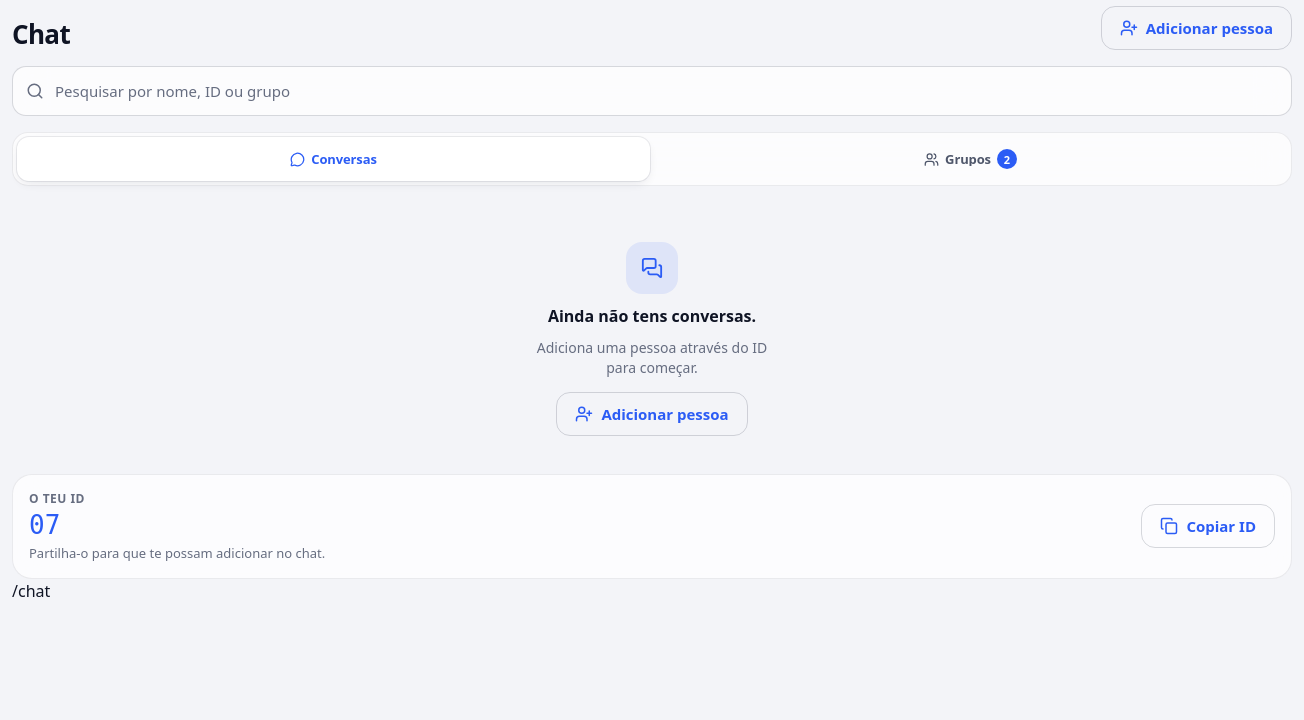
Scenario: ChatPage › syncs the tab with ?tab= and shows groups with participants and their action
The image size is (1304, 720).
Click the tab named "Grupos, 2 mensagens não lidas" at point(970, 159), box [654,137,1287,181]
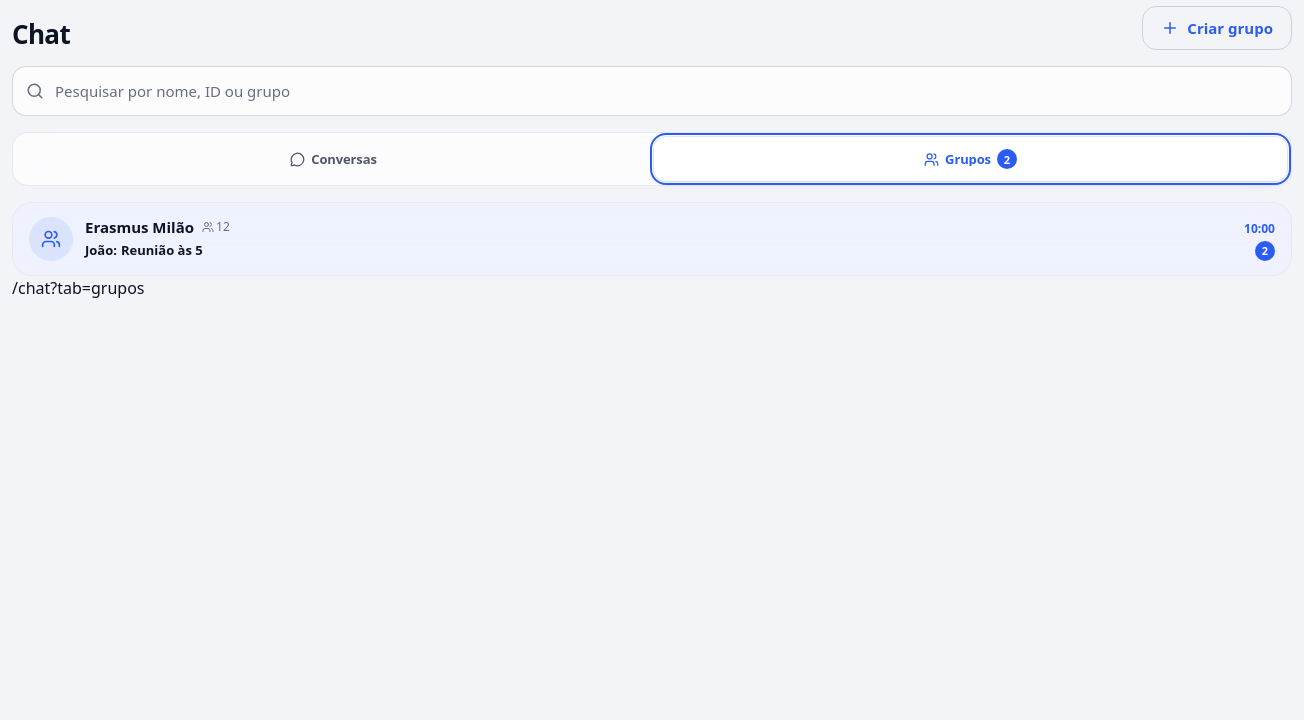
Result: the text with test id "location" reads "/chat?tab=grupos" at [12,277,144,299]
Result: the element titled "12 participantes" is shown at [216,218,230,235]
Result: the button "Criar grupo" is shown at [1142,6,1292,50]
Click the tab "Conversas" at point(334, 159), box [17,137,650,181]
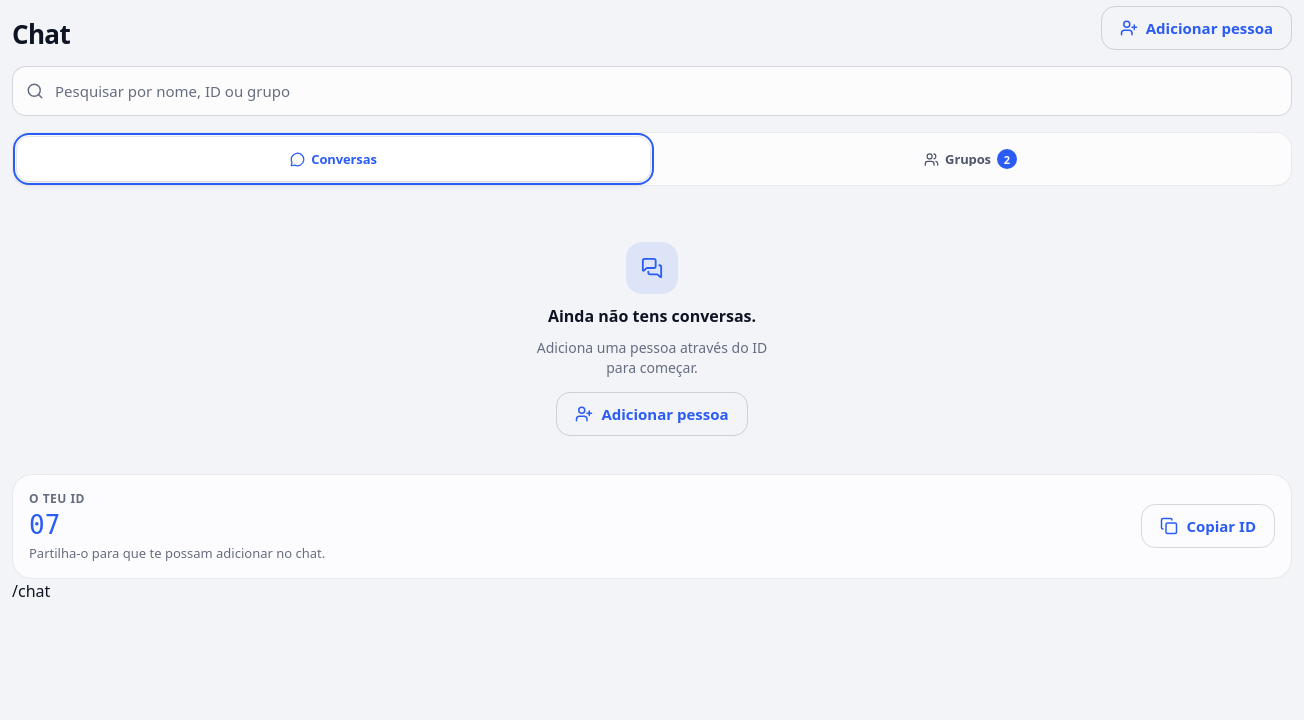
Result: the text with test id "location" reads "/chat" at [12,580,50,602]
